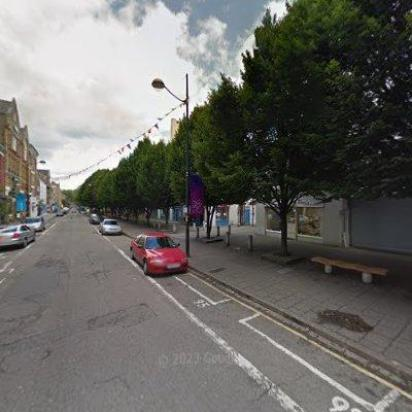stationary-car-onstreet: (130, 229, 190, 278), (0, 224, 36, 248), (98, 217, 124, 236), (22, 215, 46, 231), (88, 212, 104, 226), (56, 209, 64, 217)
